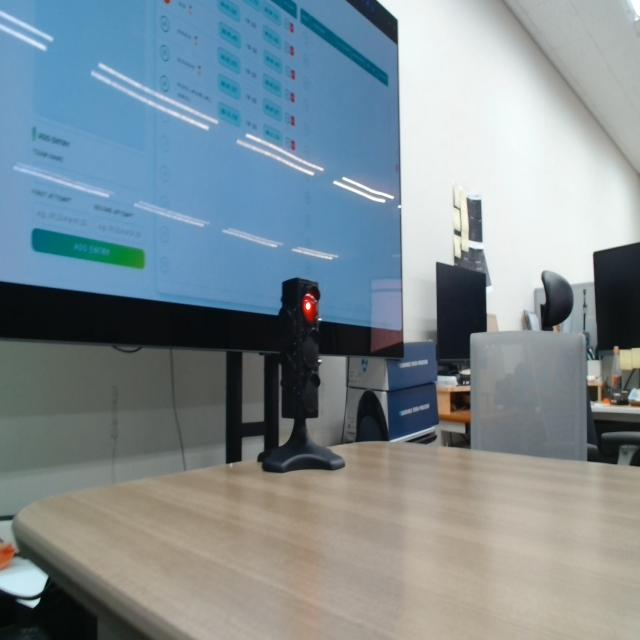red_light: (302, 293, 318, 324)
